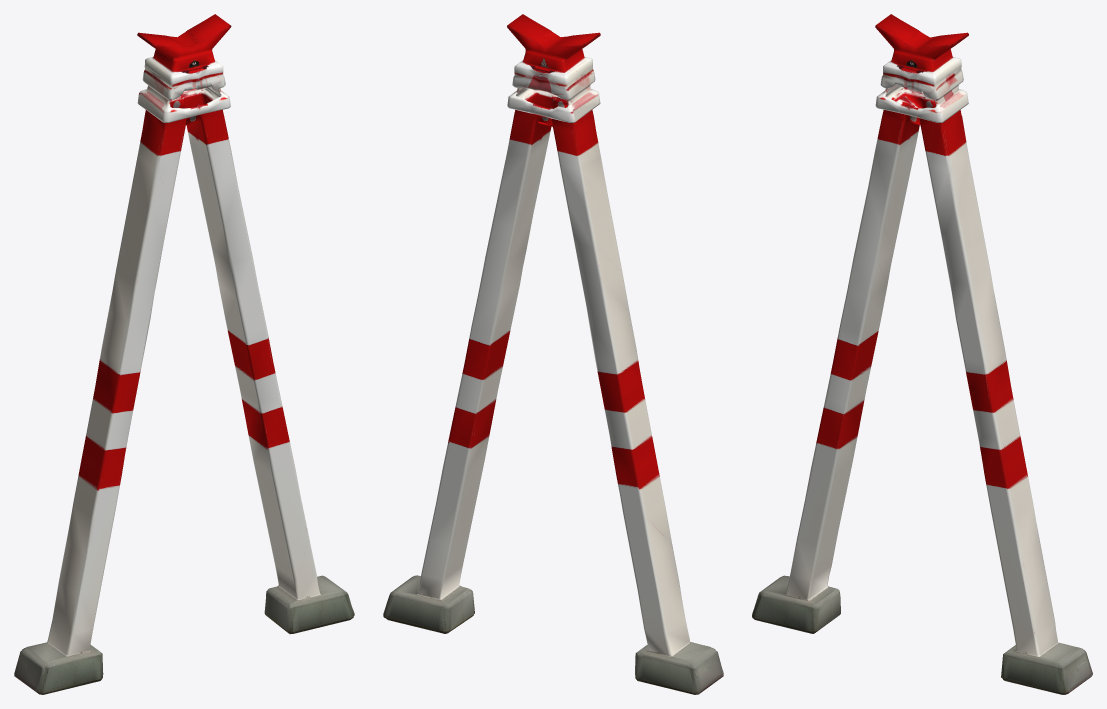
The model's file is oktyabrskii_bridge_pylon.glb.
3 renders of one model, left to right at view 1: azimuth 30°, elevation 25°; view 2: azimuth 150°, elevation 25°; view 3: azimuth 330°, elevation 25°, orthographic.
Bounding box in the file's own units: 1.02 × 1.91 × 0.1605.
1 material, 1 textured.
